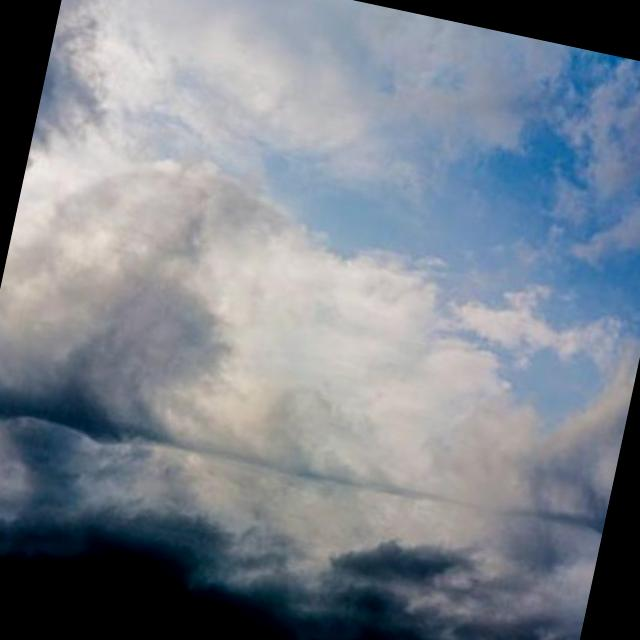nimbostratus: (0, 443, 487, 640)
